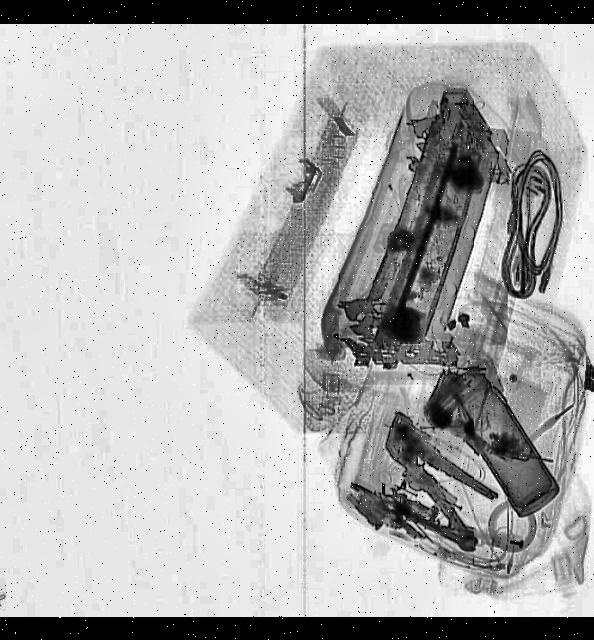Pliers: (357, 410, 509, 554)
